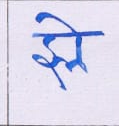o_matra: (70, 22, 87, 72)
